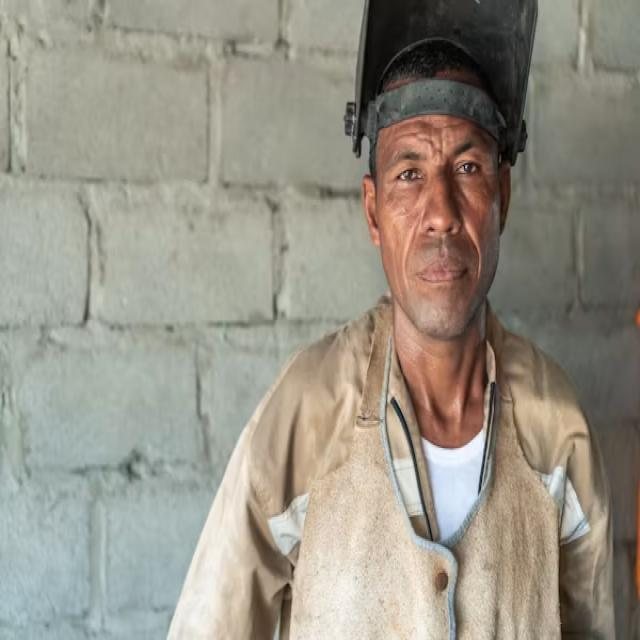helmet_lifted: (340, 0, 544, 359)
